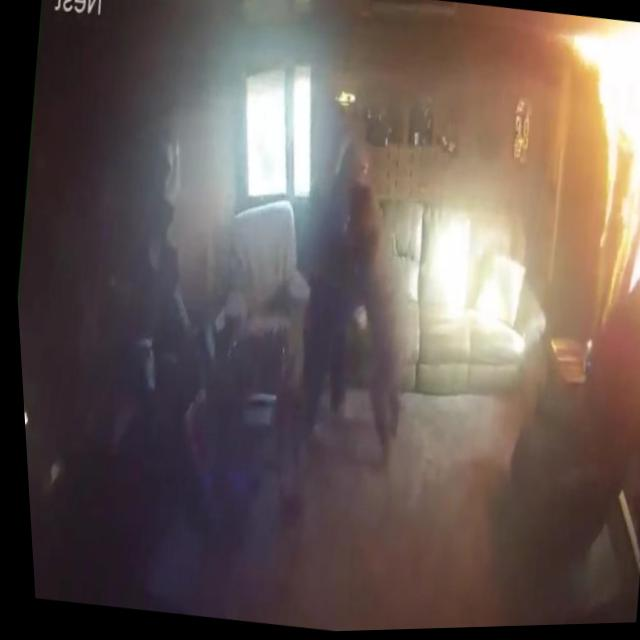fire: (511, 18, 640, 339)
